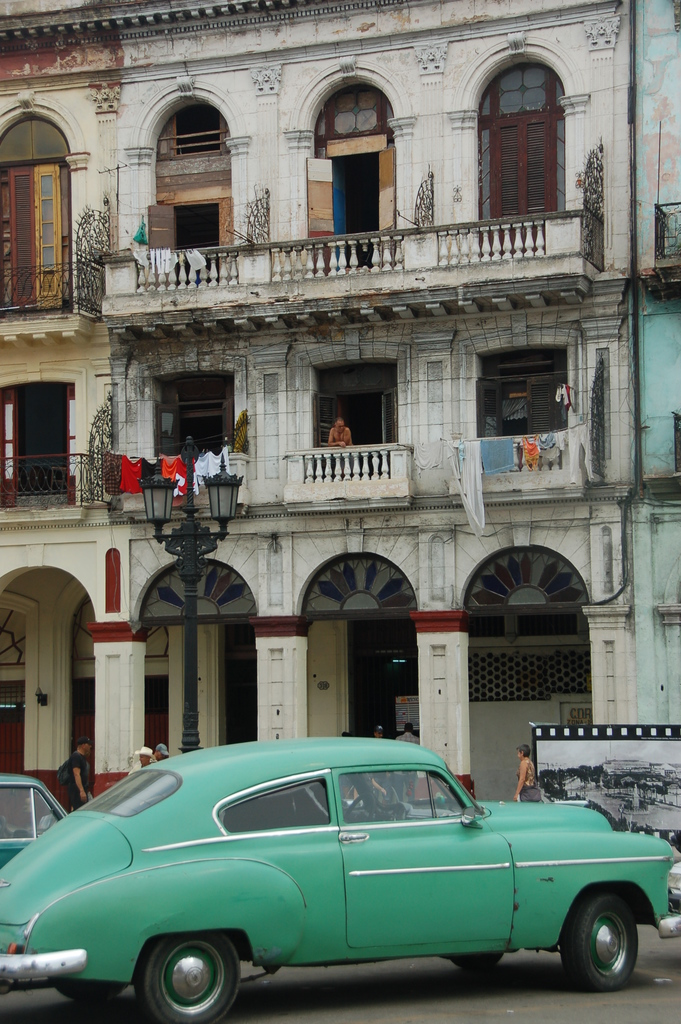cars: (0, 736, 676, 1012), (0, 768, 83, 854)
